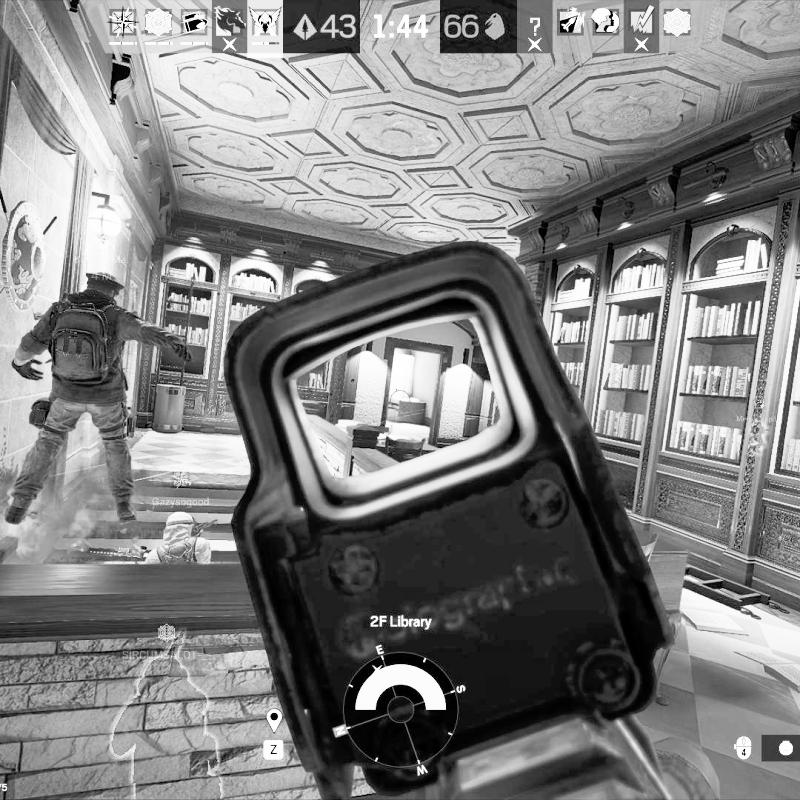Character: (0, 267, 194, 526), (141, 510, 215, 563)
Friend_label: (122, 622, 196, 660), (152, 468, 209, 508), (736, 397, 784, 424)
Head: (82, 269, 124, 304)
